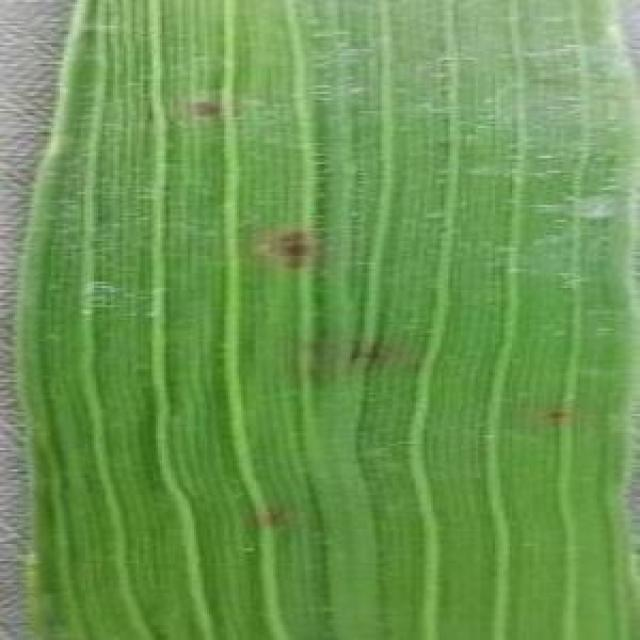Brown_Spot: (300, 323, 439, 397), (263, 213, 342, 300), (184, 90, 241, 136), (536, 400, 581, 432), (243, 509, 314, 526)
